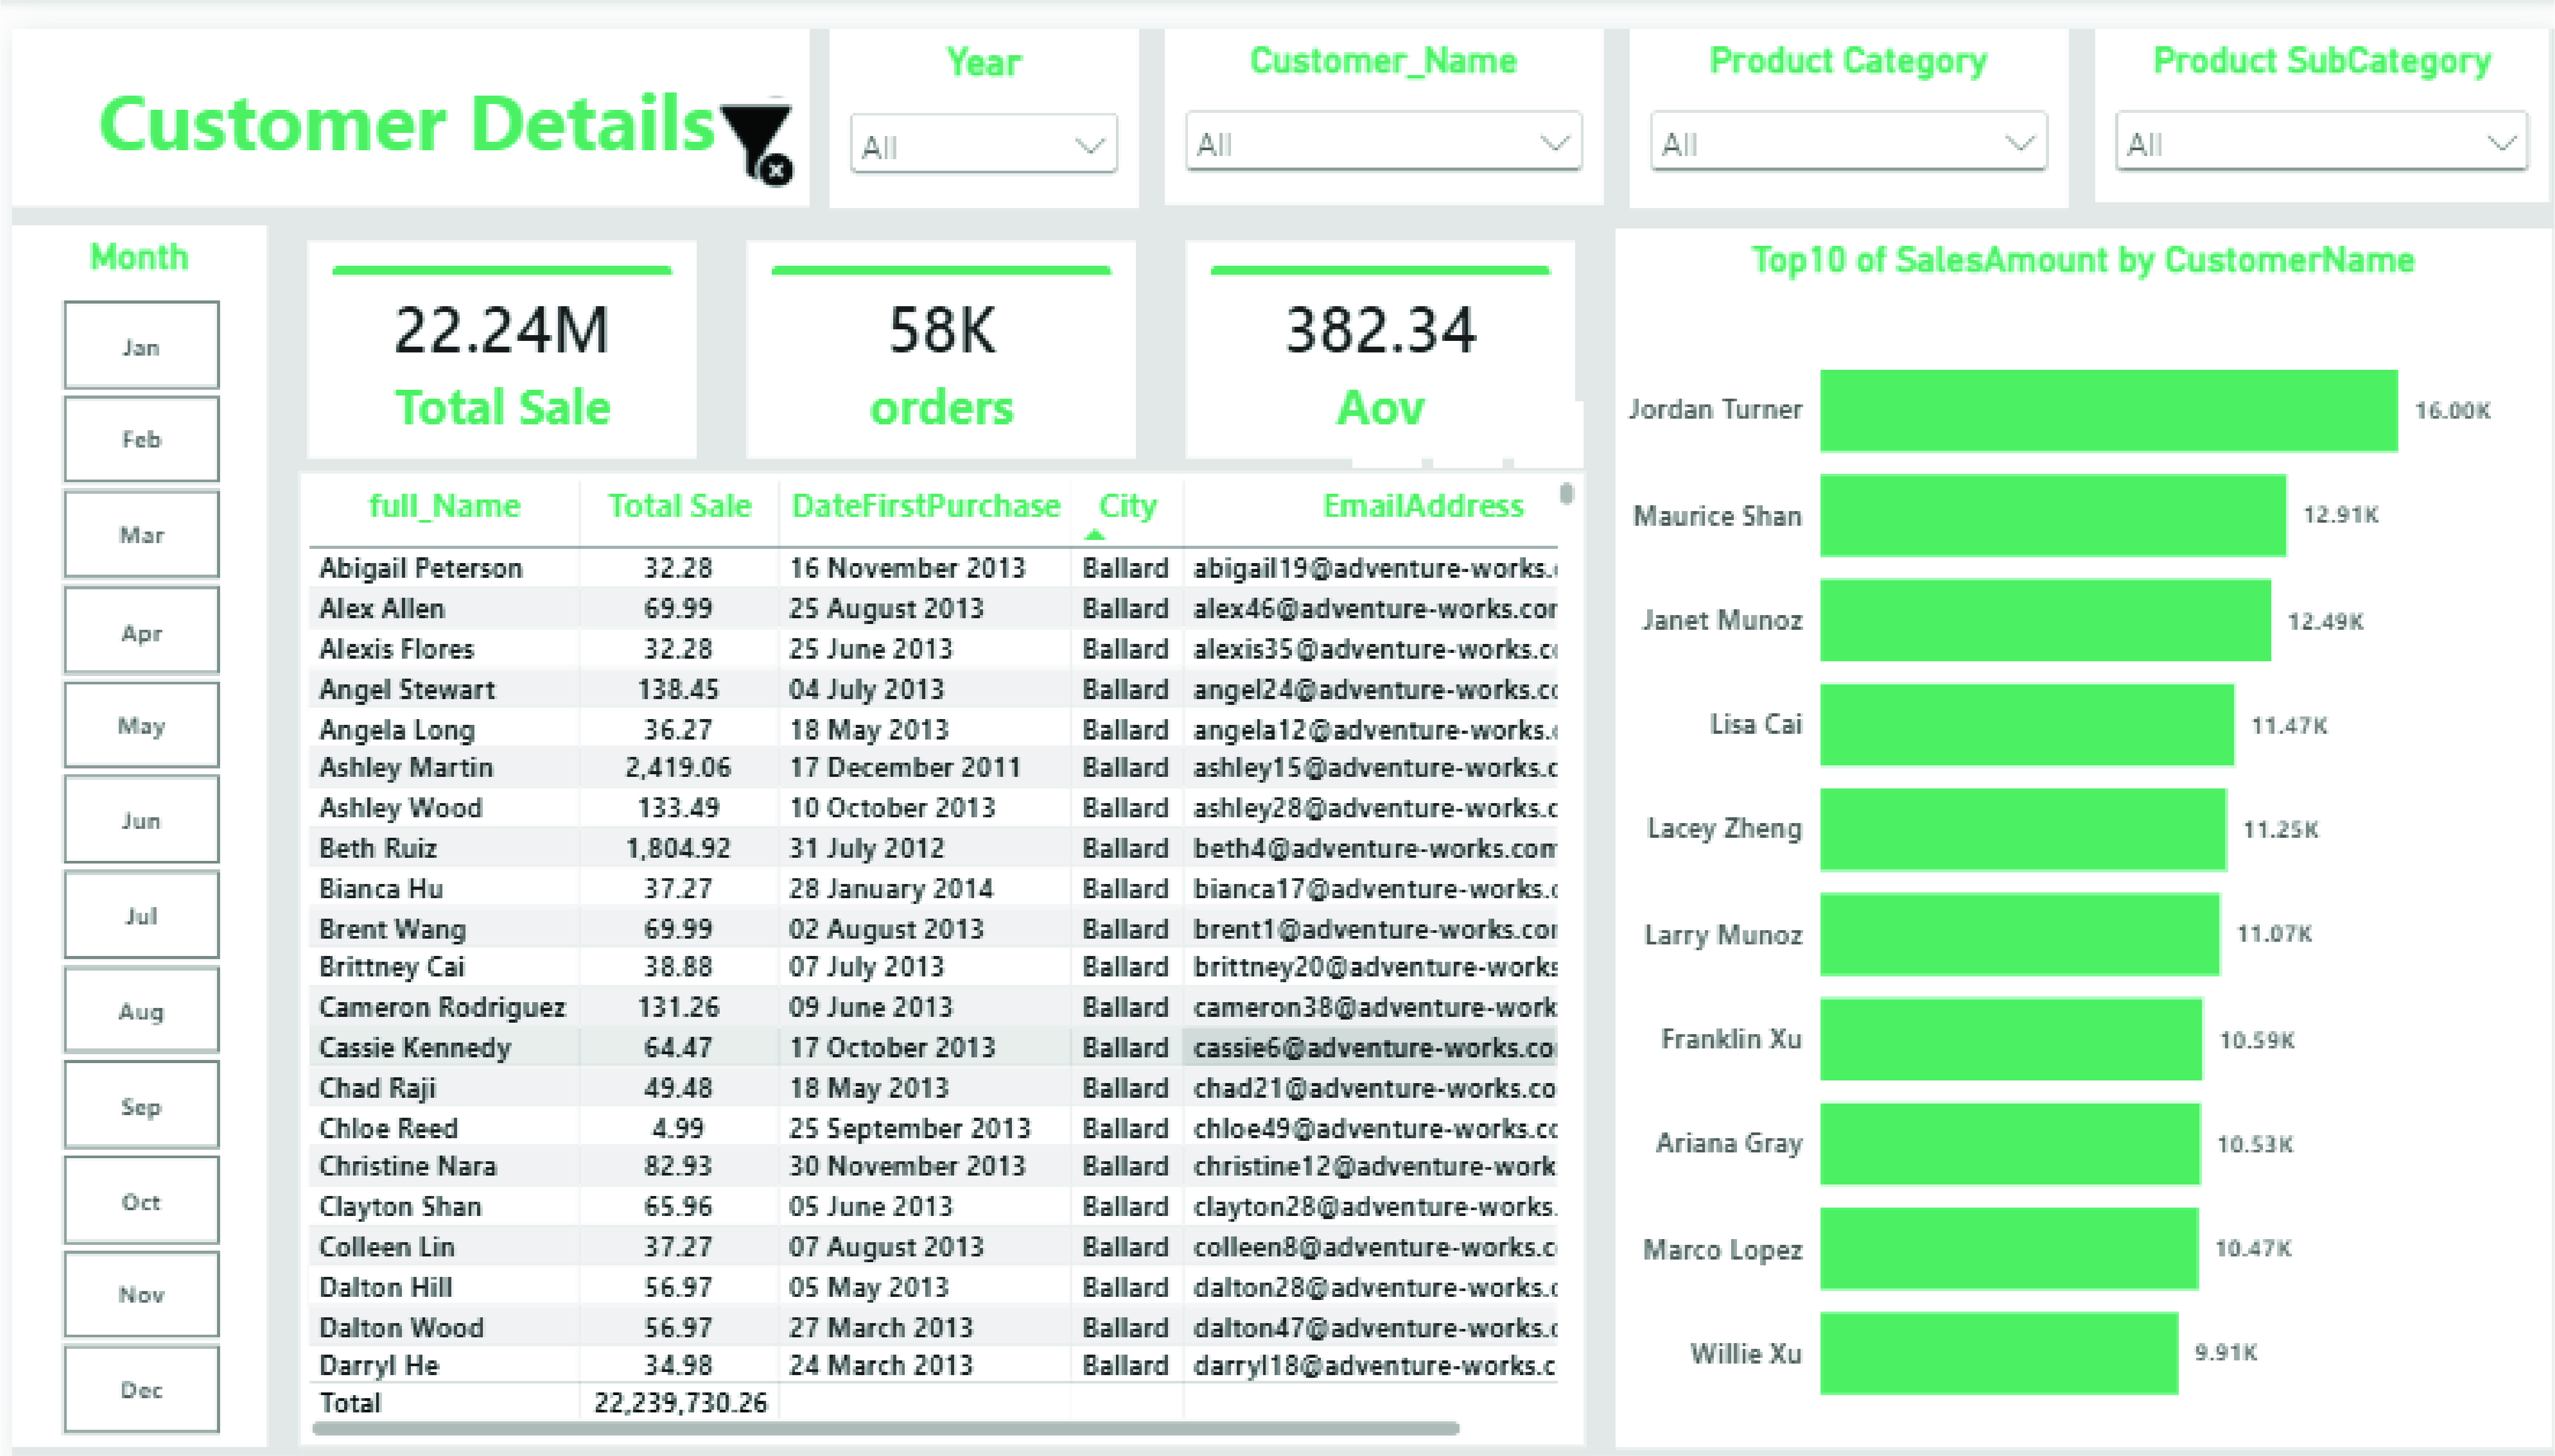

The page's visual inventory and layout, read from the dashboard file:
{"tool":"powerbi","page":{"name":"Customer_Details","canvas":[1280,720],"ordinal":3},"visuals":[{"type":"slicer","title":"Month","fields":{"Values":["Dim_Date.mon_3"]},"box":[0,98,128,613],"z":0},{"type":"actionButton","title":"Sales Overview","box":[0,0,399.8,89],"z":1000},{"type":"slicer","title":"Product Category","fields":{"Values":["Dim-Product.ProductCategory"]},"box":[811.7,0.4,220,90],"z":2000},{"type":"slicer","title":"Product SubCategory","fields":{"Values":["Dim-Product.ProductSubcategory"]},"box":[1045.3,0,228.3,86.8],"z":3000},{"type":"barChart","title":"Top10 of SalesAmount by CustomerName","fields":{"Category":["Dim-Customers.full_Name"],"Y":["Sum(Fact_Sale.SalesAmount)"]},"box":[804,100,470,612],"z":4000},{"type":"slicer","title":"Customer_Name","fields":{"Values":["Dim-Customers.full_Name"]},"box":[578.3,0,220,88],"z":5000},{"type":"tableEx","fields":{"Values":["Dim-Customers.full_Name","measure.sales","Dim-Customers.DateFirstPurchase","Dim-Customers.City","Dim-Customers.EmailAddress"]},"box":[144,222,646,490],"z":6000},{"type":"slicer","title":"Year","fields":{"Values":["Dim_Date.year"]},"box":[410,0,155,90],"z":7000},{"type":"cardVisual","fields":{"Data":["measure.sales"]},"box":[144,101.6,205,119],"z":8000},{"type":"cardVisual","fields":{"Data":["measure.orders"]},"box":[364,101.6,205,119],"z":9000},{"type":"cardVisual","fields":{"Data":["measure.Aov"]},"box":[584,101.6,205,119],"z":10000},{"type":"actionButton","box":[346.7,26.7,53.3,61.7],"z":11000}]}

Visuals, with their boxes in screenshot pixels (x1, y1, x2, y2), scaled from the page's 1280x720 canvas onto the 2555x1456 screenshot:
"Month" slicer: {"left": 0, "top": 198, "right": 255, "bottom": 1438}
"Sales Overview" actionButton: {"left": 0, "top": 0, "right": 798, "bottom": 180}
"Product Category" slicer: {"left": 1620, "top": 1, "right": 2060, "bottom": 183}
"Product SubCategory" slicer: {"left": 2086, "top": 0, "right": 2542, "bottom": 175}
"Top10 of SalesAmount by CustomerName" barChart: {"left": 1605, "top": 202, "right": 2543, "bottom": 1440}
"Customer_Name" slicer: {"left": 1154, "top": 0, "right": 1594, "bottom": 178}
tableEx - Dim-Customers.full_Name x measure.sales: {"left": 287, "top": 449, "right": 1577, "bottom": 1440}
"Year" slicer: {"left": 819, "top": 0, "right": 1128, "bottom": 182}
cardVisual - measure.sales: {"left": 287, "top": 205, "right": 697, "bottom": 446}
cardVisual - measure.orders: {"left": 727, "top": 205, "right": 1136, "bottom": 446}
cardVisual - measure.Aov: {"left": 1166, "top": 205, "right": 1575, "bottom": 446}
actionButton: {"left": 692, "top": 54, "right": 799, "bottom": 179}
